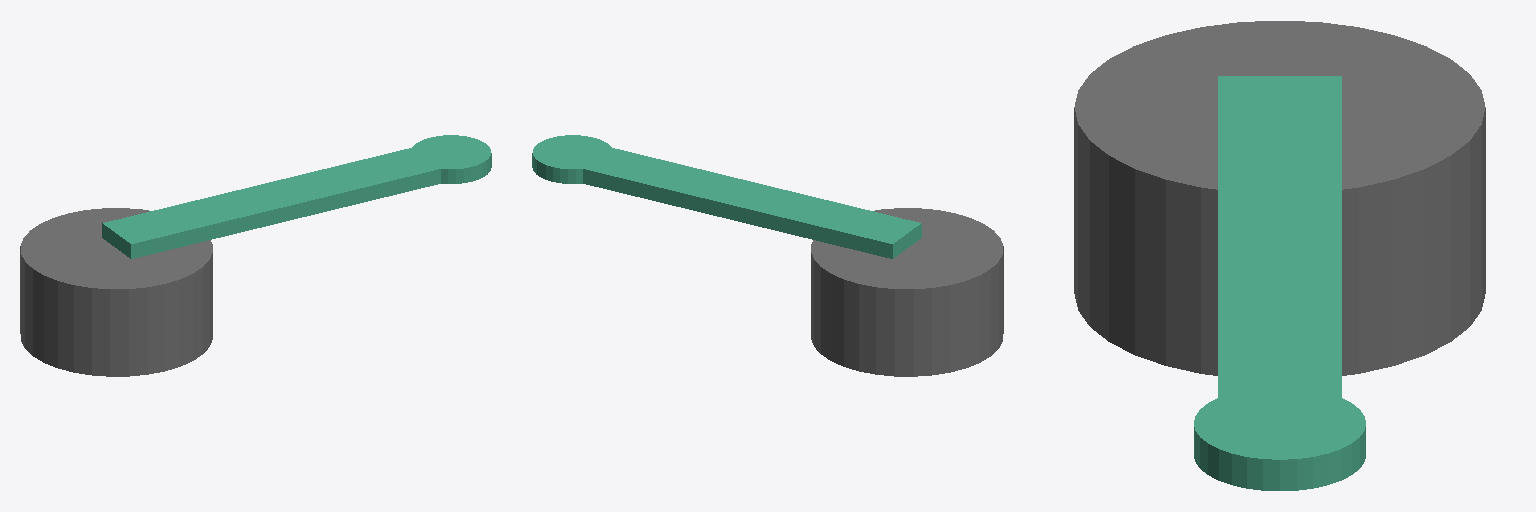
URDF robot description (camel_rmdx8_pro):
<?xml version="1.0" ?>
<robot name="camel_rmdx8_pro">

  <material name="black">
    <color rgba="0.0 0.0 0.0 1.0"/>
  </material>

  <material name="gray">
    <color rgba="0.5 0.5 0.5 1.0"/>
  </material>

  <material name="Aquamarine">
    <color rgba="0.364 0.733 0.608 1.0"/>
  </material>

  <material name="Aqua">
    <color rgba="0.0 0.733 0.733 1.0"/>
  </material>

  <link name="world"/>
  <joint name="fixed_world" type="fixed">
    <parent link="world"/>
    <child link="base"/>
  </joint>

  <link name="base">
    <visual>
      <origin rpy="0 0 0" xyz="0 0 0.025"/>
      <geometry>
        <cylinder length="0.05" radius="0.05"/>
      </geometry>
      <material name="gray"/>
    </visual>
    <inertial>
      <mass value="0.767"/>
      <inertia ixx="1.0" ixy="0.0" ixz="0.0" iyy="1.0" iyz="0.0" izz="1.0"/>
    </inertial>
  </link>

  <joint name="yaw" type="revolute">
    <origin rpy="0 0 0" xyz="0 0 0.05"/>
    <parent link="base"/>
    <child link="test_link"/>
    <axis xyz="0 0 1"/>
  </joint>

  <link name="test_link">
    <visual>
      <origin rpy="0 0 0" xyz="0.1 0 0.00425"/>
      <geometry>
        <box size="0.2 0.03 0.0085"/>
      </geometry>
      <material name="Aquamarine"/>
    </visual>
    <visual>
          <origin rpy="0 0 0" xyz="0.2 0 0.00425"/>
          <geometry>
            <cylinder length="0.0085" radius="0.021"/>
          </geometry>
          <material name="Aquamarine"/>
        </visual>
  </link>

  
</robot>

--- What the picture shows (computed from the rendered views, not written in the file) ---
3 views of the same robot in one strip: view 1: azimuth 30°, elevation 25°; view 2: azimuth 150°, elevation 25°; view 3: azimuth 270°, elevation 25° (orthographic).
Model camel_rmdx8_pro with 3 links and 2 joints (1 revolute, 1 fixed), rooted at world, posed every joint at zero.
Visible links, largest first — view 1: base, test_link; view 2: base, test_link; view 3: base, test_link.
Boxes of the visible links, left/top/right/bottom form: base: left=20, top=208, right=212, bottom=376; test_link: left=102, top=135, right=491, bottom=258; base: left=811, top=208, right=1003, bottom=376; test_link: left=532, top=135, right=921, bottom=258; base: left=1074, top=21, right=1485, bottom=375; test_link: left=1194, top=76, right=1365, bottom=490.
Bounding box of the posed robot: 0.271 × 0.1 × 0.0585 m (x, y, z).
Geometry: primitives only (box / cylinder / sphere), no mesh files.